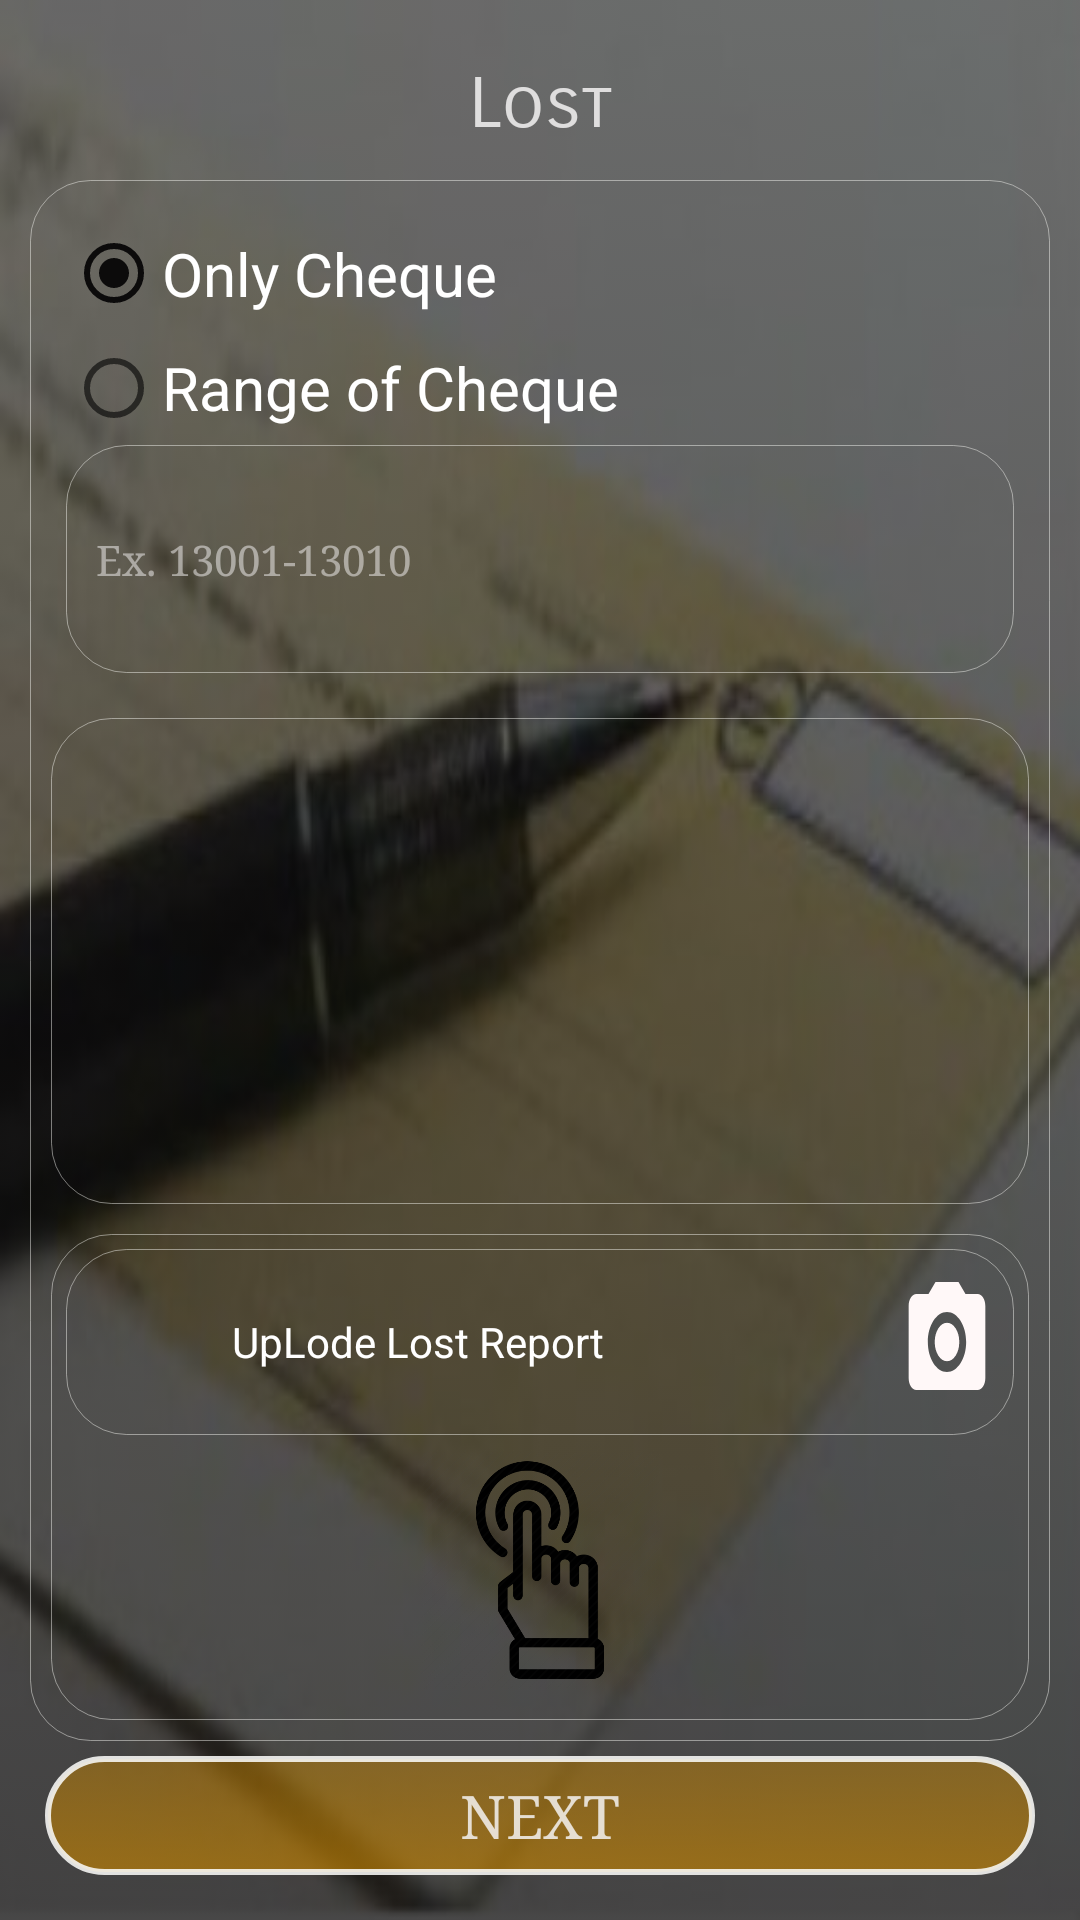

Named icons in this screenshot (1080 × 1920) and their centers, point (x, y):
photo camera: point (947, 1336)
